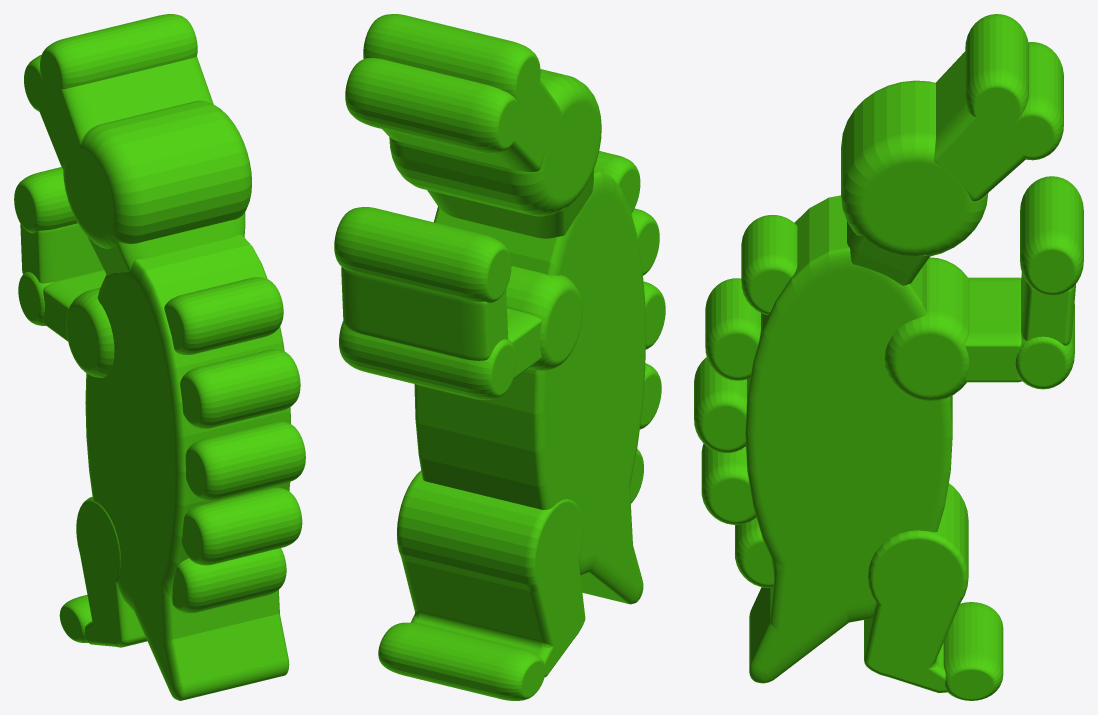
The model's file is dinozaur_v2.obj.
3 renders of one model, left to right at view 1: azimuth 30°, elevation 25°; view 2: azimuth 150°, elevation 25°; view 3: azimuth 270°, elevation 25°, orthographic. The views are drawn at different scales.
Visible parts, largest first — view 1: Cylinder.042; view 2: Cylinder.042; view 3: Cylinder.042.
Part boxes in pixels (x1,y1,x2,y2): Cylinder.042: (14, 14, 305, 700); Cylinder.042: (334, 14, 665, 700); Cylinder.042: (694, 14, 1083, 700).
Bounding box in the file's own units: 1.79 × 7.44 × 4.19.
